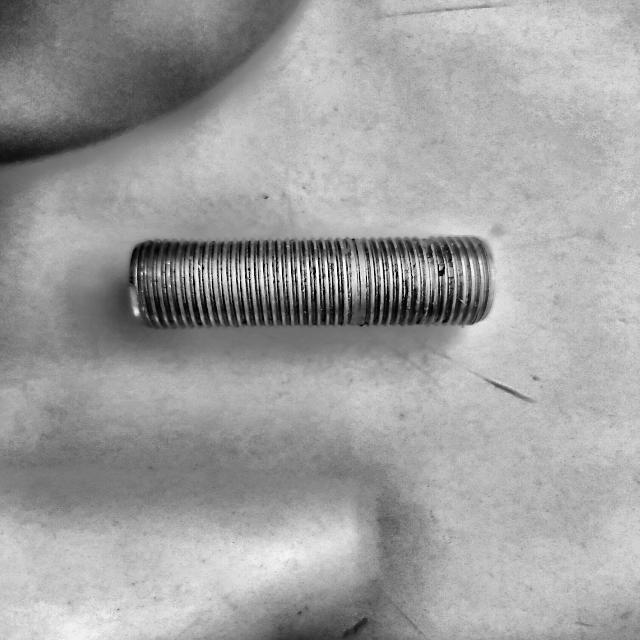Broken: (130, 234, 497, 332)
